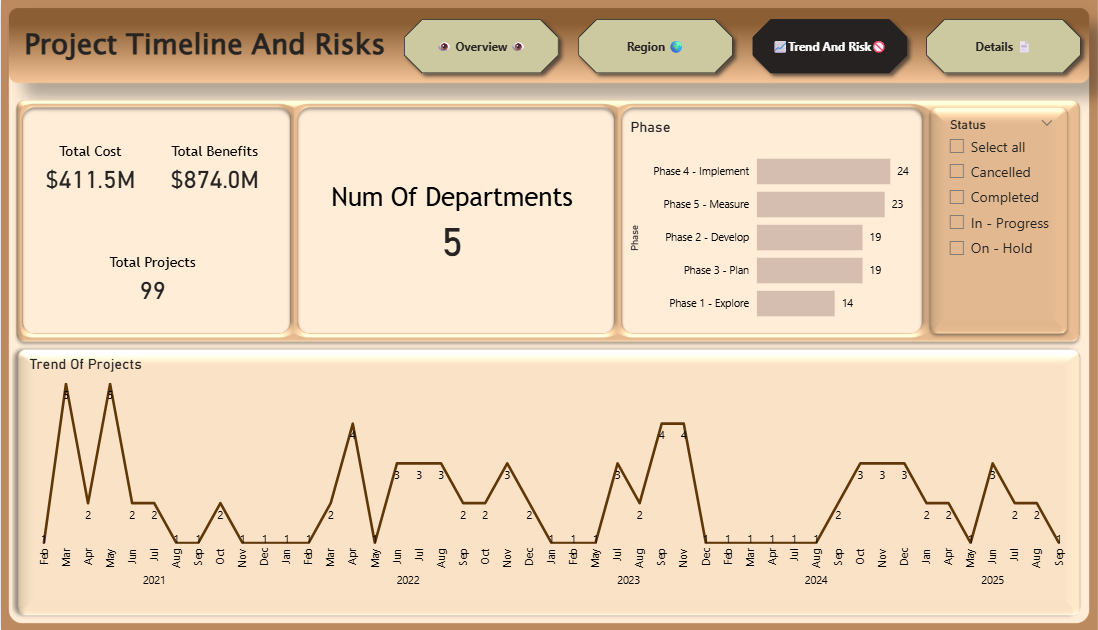

Layout of this report page (visuals, bound fields, positions):
{"tool":"powerbi","page":{"name":"📈Trend And Risk🚫","canvas":[1280,720],"ordinal":3},"visuals":[{"type":"lineChart","title":"Trend Of Projects","fields":{"Y":["_Measures.Total Projects"],"Category":["Date Table.Year","Date Table.Month Name"]},"box":[27.1,405.7,1197.1,280],"z":0},{"type":"cardVisual","fields":{"Data":["_Measures.Total Cost","_Measures.Total Benefits"]},"box":[27.1,128.6,294.3,127.1],"z":1000},{"type":"cardVisual","fields":{"Data":["_Measures.Total Projects"]},"box":[27.1,255.7,294.3,127.1],"z":2000},{"type":"cardVisual","fields":{"Data":["_Measures.Num Of Departments"]},"box":[361.4,140,310,231.4],"z":3000},{"type":"slicer","fields":{"Values":["Project Management Dataset (1).Status"]},"box":[1071.4,128.6,142.9,242.9],"z":4000},{"type":"barChart","title":"Phase","fields":{"Category":["Project Management Dataset (1).Phase"],"Y":["_Measures.Total Projects"]},"box":[714.3,134.3,330,248.6],"z":5000},{"type":"pageNavigator","box":[451.4,12.9,795.7,80],"z":6000},{"type":"textbox","box":[21.2,21.2,446.2,61.2],"z":7000}]}

Visuals, with their boxes in screenshot pixels (x1, y1, x2, y2), scaled from the page's 1280x720 canvas onto the 1098x630 screenshot:
"Trend Of Projects" lineChart: x1=23, y1=355, x2=1050, y2=600
cardVisual - _Measures.Total Cost x _Measures.Total Benefits: x1=23, y1=113, x2=276, y2=224
cardVisual - _Measures.Total Projects: x1=23, y1=224, x2=276, y2=335
cardVisual - _Measures.Num Of Departments: x1=310, y1=122, x2=576, y2=325
slicer - Project Management Dataset (1).Status: x1=919, y1=113, x2=1042, y2=325
"Phase" barChart: x1=613, y1=118, x2=896, y2=335
pageNavigator: x1=387, y1=11, x2=1070, y2=81
textbox: x1=18, y1=19, x2=401, y2=72
